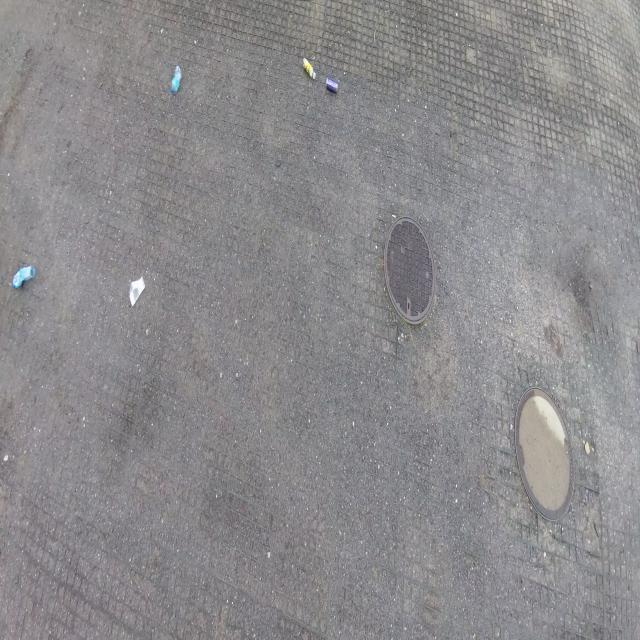rubbish: (11, 265, 36, 291), (128, 276, 147, 309), (170, 64, 183, 94), (302, 55, 316, 79), (325, 77, 339, 94)
